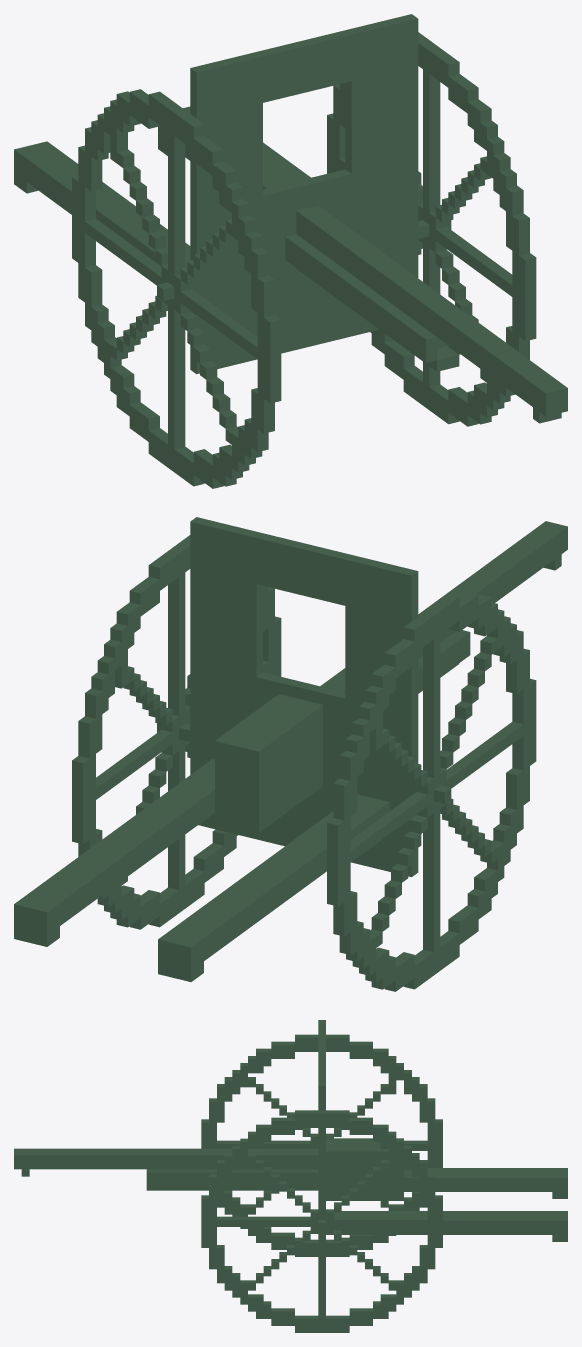
The model's file is 意大利炮.gltf.
3 renders of one model, top to bottom at view 1: azimuth 30°, elevation 25°; view 2: azimuth 150°, elevation 25°; view 3: azimuth 270°, elevation 25°, orthographic. The views are drawn at different scales.
Parts seen in each view (by area): view 1: Object; view 2: Object; view 3: Object.
Boxes of the visible parts, x1,y1,x2,y2 form: Object: (14,14,567,488); Object: (14,517,567,991); Object: (14,1020,567,1332).
Bounding box in the file's own units: 26 × 34 × 71.
1 material, 1 textured.
